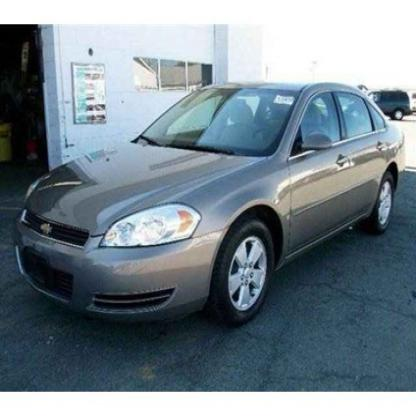Vehicle: (8, 82, 413, 329)
